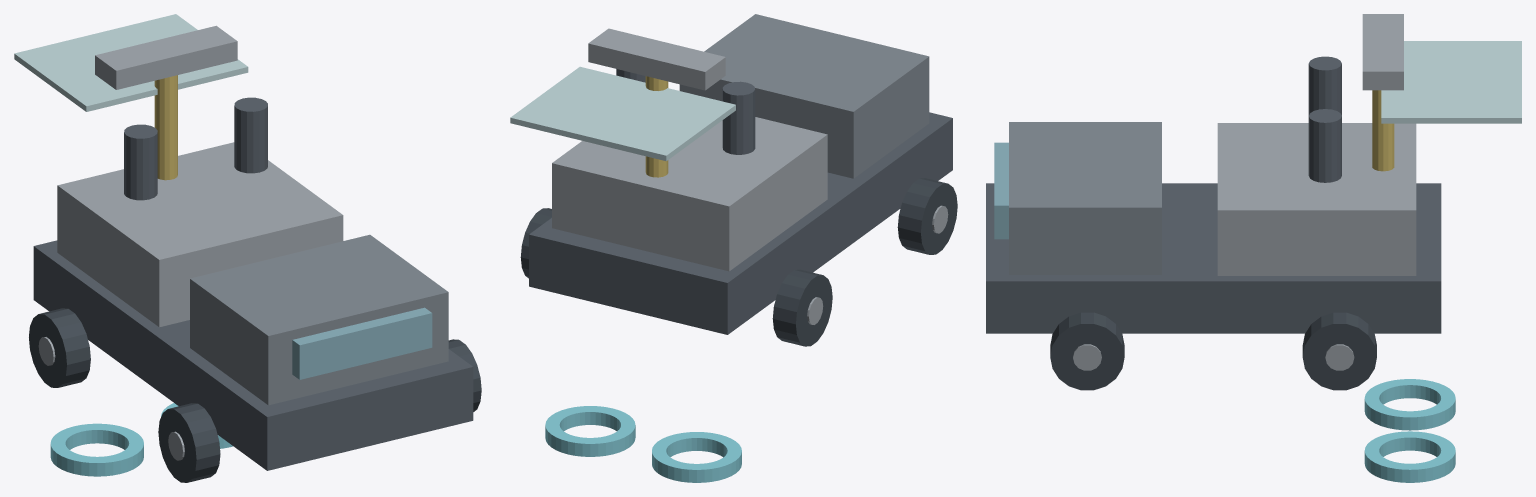
The model's file is human_force_field_truck.glb.
3 views of the same model, side by side, from view 1: azimuth 30°, elevation 25°; view 2: azimuth 150°, elevation 25°; view 3: azimuth 270°, elevation 25° (orthographic). The views are drawn at different scales.
Visible parts, largest first — view 1: generator_housing, truck_chassis, truck_cab, shield_projection, windshield, projector_bar, projector_coil_-1, wheel_-1_0, wheel_1_0, field_emitter_1, field_emitter_-1, projector_mast (+1 smaller); view 2: generator_housing, truck_chassis, truck_cab, shield_projection, projector_bar, projector_coil_1, projector_coil_-1, wheel_1_0, wheel_-1_0, field_emitter_-1, projector_mast, wheel_1_2; view 3: truck_chassis, generator_housing, truck_cab, shield_projection, wheel_-1_2, wheel_1_2, projector_coil_-1, projector_coil_1, projector_bar, field_emitter_1, field_emitter_-1, windshield (+3 smaller).
Part boxes in pixels (x1,y1,x2,y2): generator_housing: (57, 142, 343, 327); truck_chassis: (33, 240, 473, 470); truck_cab: (190, 234, 448, 405); shield_projection: (14, 14, 248, 111); windshield: (292, 307, 432, 379); projector_bar: (95, 25, 237, 89); projector_coil_-1: (50, 423, 143, 476); wheel_-1_0: (158, 403, 220, 482); wheel_1_0: (29, 308, 90, 387); field_emitter_1: (234, 97, 267, 173); field_emitter_-1: (124, 124, 157, 200); projector_mast: (154, 75, 177, 180); generator_housing: (552, 117, 827, 271); truck_chassis: (529, 112, 952, 334); truck_cab: (679, 14, 929, 178); shield_projection: (510, 66, 735, 161); projector_bar: (588, 28, 725, 90); projector_coil_1: (545, 406, 635, 456); projector_coil_-1: (652, 432, 741, 482); wheel_1_0: (772, 269, 832, 346); wheel_-1_0: (897, 178, 957, 254); field_emitter_-1: (722, 81, 755, 154); projector_mast: (645, 76, 668, 177); wheel_1_2: (520, 208, 551, 278); truck_chassis: (986, 183, 1441, 333); generator_housing: (1217, 123, 1416, 275); truck_cab: (1009, 122, 1161, 274); shield_projection: (1381, 41, 1521, 123); wheel_-1_2: (1050, 312, 1124, 390); wheel_1_2: (1302, 312, 1376, 390); projector_coil_-1: (1364, 379, 1455, 430); projector_coil_1: (1364, 431, 1455, 482); projector_bar: (1362, 14, 1403, 90); field_emitter_1: (1308, 109, 1341, 182); field_emitter_-1: (1308, 56, 1341, 115); windshield: (994, 142, 1008, 239).
Bounding box in the file's own units: 1.57 × 2.1 × 2.59.
